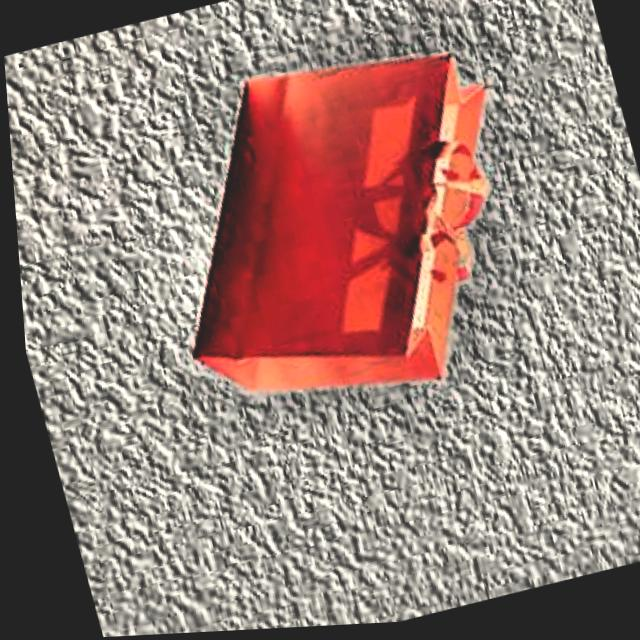Paper-bag: (92, 20, 557, 456)
